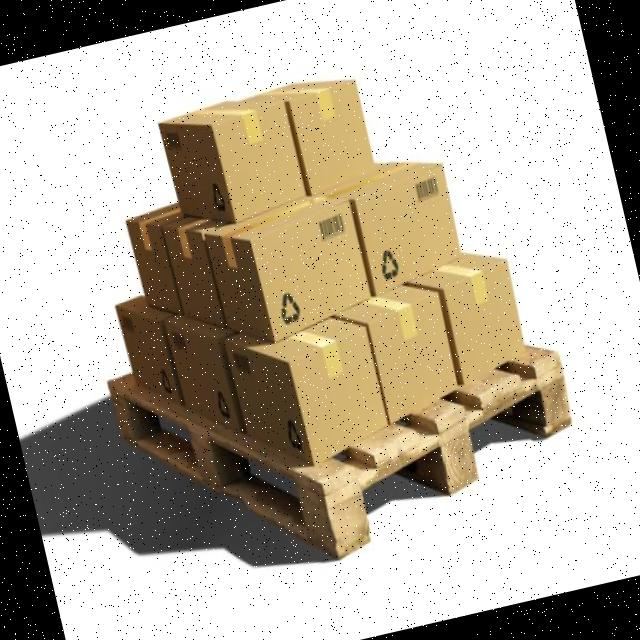Wooden-Pallets: (105, 352, 581, 566)
